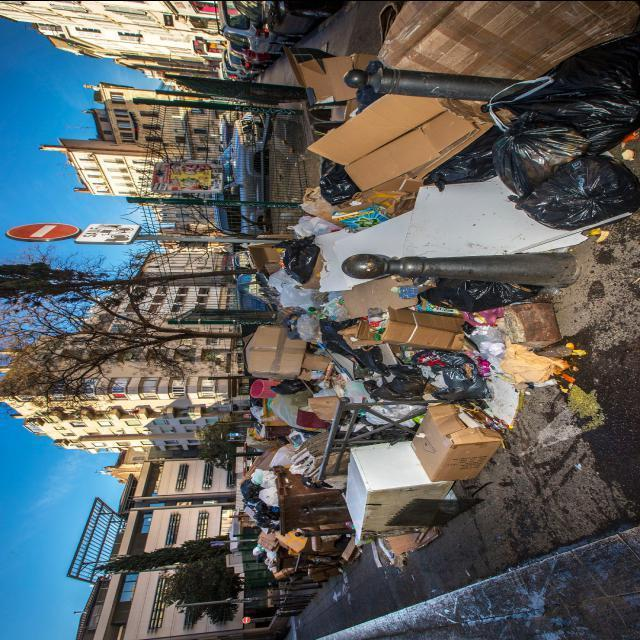Trashbag: (505, 52, 636, 132), (545, 156, 637, 230), (494, 119, 583, 192), (412, 274, 535, 310), (432, 135, 498, 188), (424, 346, 484, 402), (270, 233, 321, 282), (317, 162, 355, 212), (375, 361, 427, 394), (240, 472, 264, 503)
